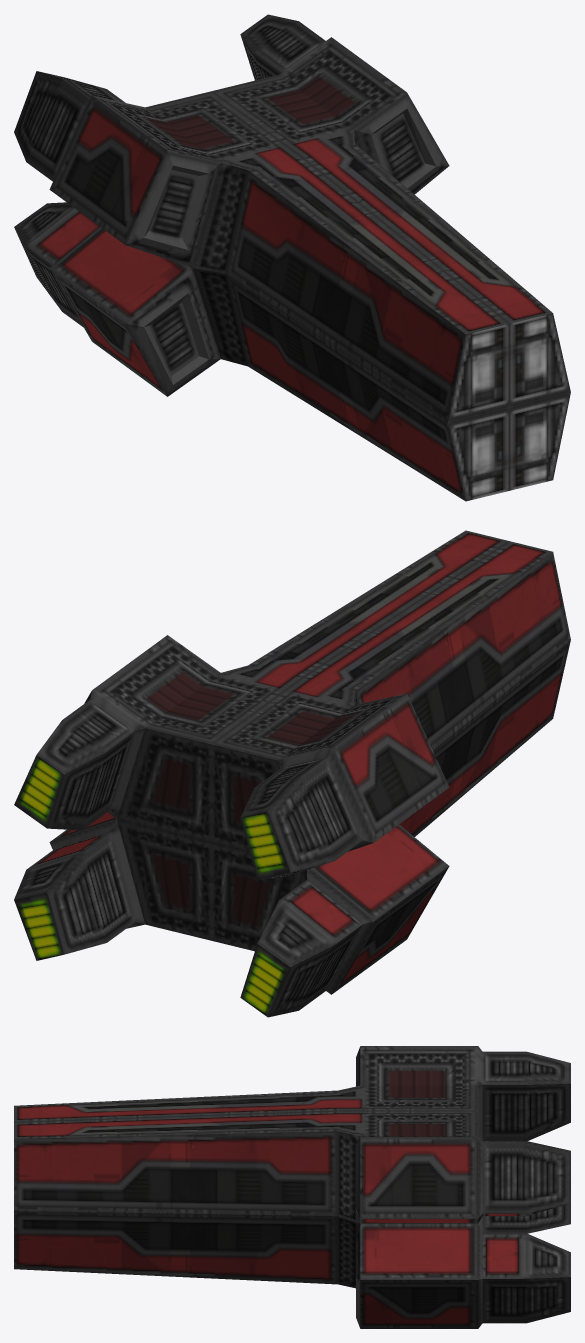
Rendered from BFP_RearHullSection_01.FBX.
3 renders of one model, top to bottom at view 1: azimuth 30°, elevation 25°; view 2: azimuth 150°, elevation 25°; view 3: azimuth 270°, elevation 25°, orthographic. The views are drawn at different scales.
Visible parts, largest first — view 1: BFP_RearHullSection_01; view 2: BFP_RearHullSection_01; view 3: BFP_RearHullSection_01.
Part boxes in pixels (<box>): BFP_RearHullSection_01: <box>14,14,570,501</box>; BFP_RearHullSection_01: <box>14,530,570,1017</box>; BFP_RearHullSection_01: <box>14,1046,570,1328</box>.
Size of the model in its own units: 245 by 177 by 466.
Materials: 1 (1 with a texture image).
